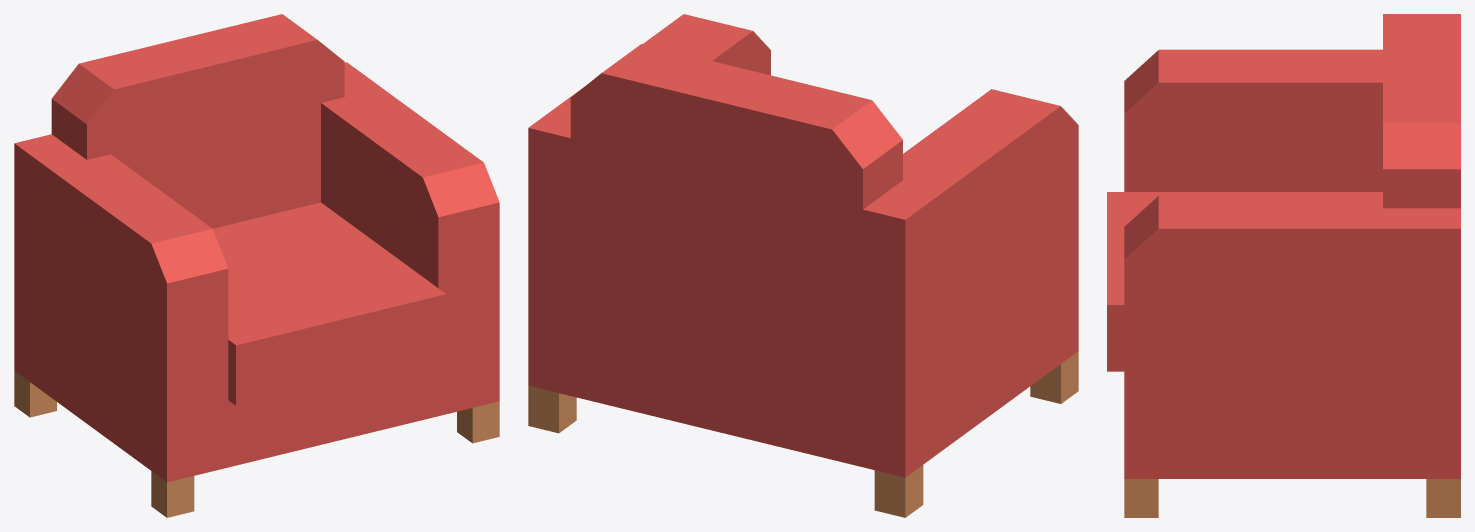
The model's file is Lounge Chair.glb.
3 renders of one model, left to right at view 1: azimuth 30°, elevation 25°; view 2: azimuth 150°, elevation 25°; view 3: azimuth 270°, elevation 25°, orthographic. The views are drawn at different scales.
Visible parts, largest first — view 1: loungeChair(Clone); view 2: loungeChair(Clone); view 3: loungeChair(Clone).
Boxes of the visible parts, bbox=[...] form: loungeChair(Clone): bbox=[14, 14, 499, 517]; loungeChair(Clone): bbox=[528, 14, 1078, 517]; loungeChair(Clone): bbox=[1107, 14, 1460, 517].
Bounding box in the file's own units: 0.49 × 0.46 × 0.41.
